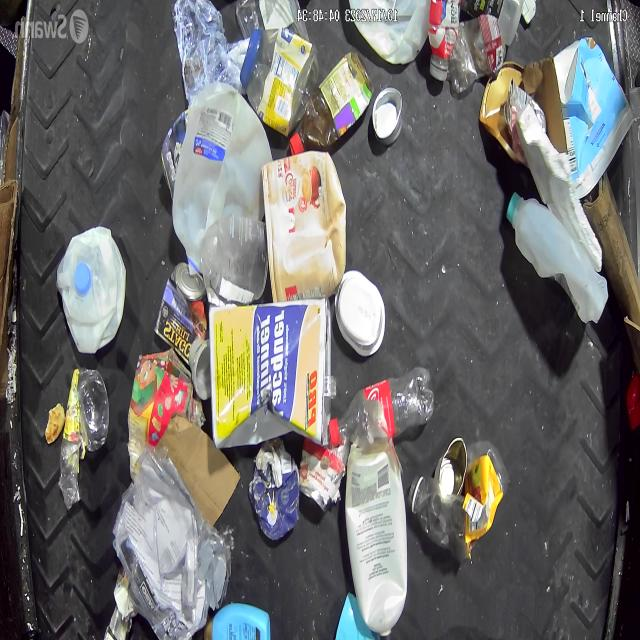can: (154, 262, 206, 367), (299, 433, 346, 510), (434, 437, 467, 497), (371, 86, 403, 146)
milk_jug: (171, 91, 271, 277), (506, 190, 608, 324), (57, 226, 127, 356), (348, 0, 431, 65)
non_white_jug: (206, 601, 272, 640)
plastic_bottle: (334, 365, 434, 450)
